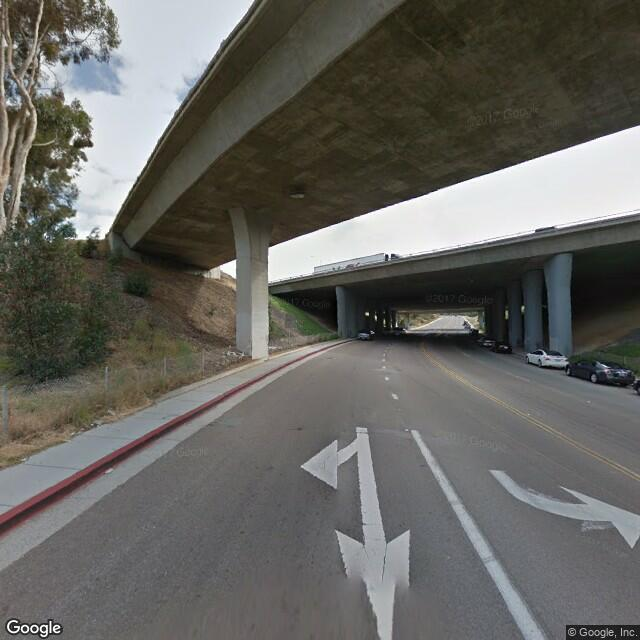litter: (77, 423, 98, 428)
